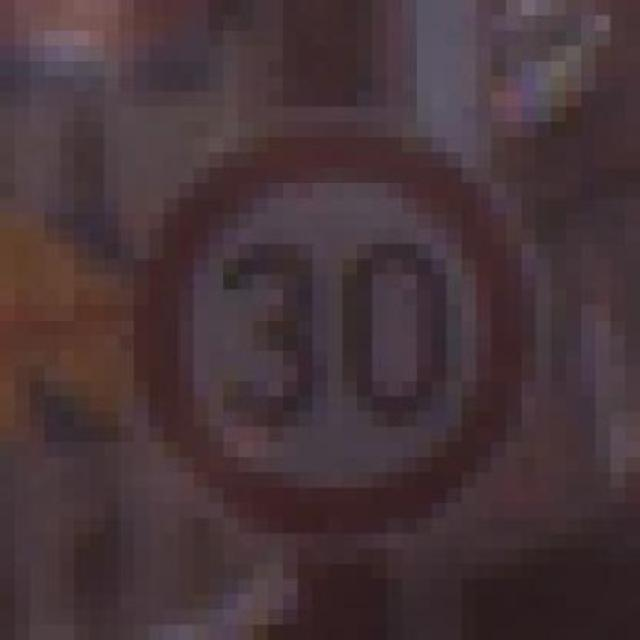Speed Limit 30 KMPh: (89, 91, 566, 564)
